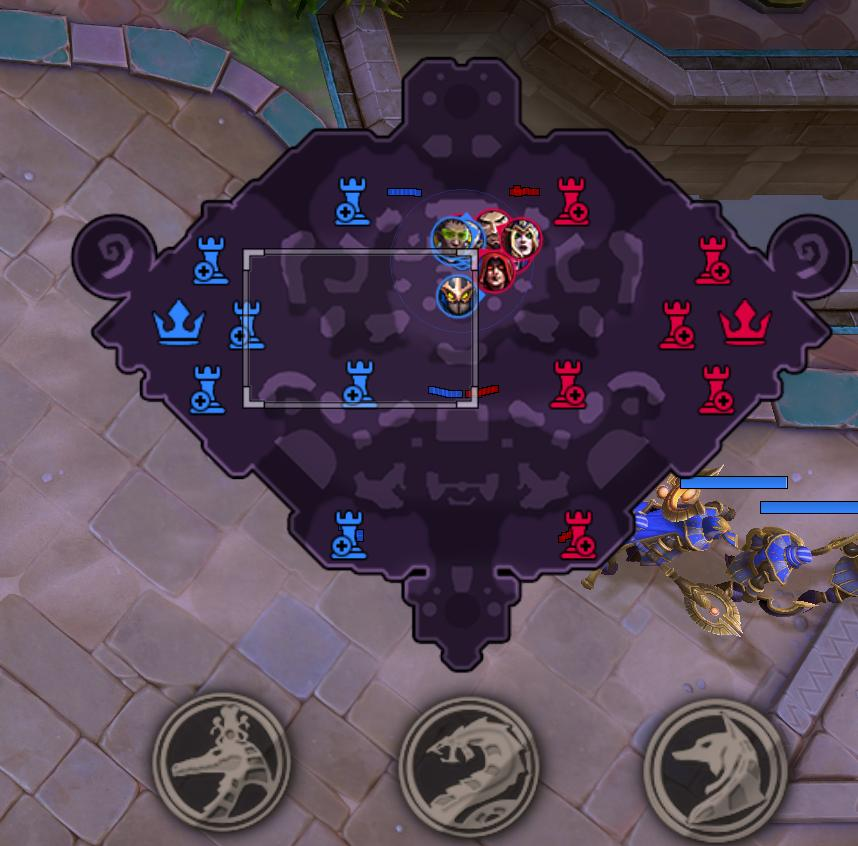blue nexus: (151, 297, 207, 345)
blue player: (430, 216, 480, 265), (436, 273, 476, 318)
blue tower: (227, 297, 265, 350), (192, 233, 230, 285), (330, 507, 368, 559), (333, 175, 371, 226), (188, 363, 226, 414), (340, 356, 377, 408)
red nexus: (717, 299, 772, 345)
red player: (502, 217, 542, 261), (476, 251, 515, 295), (472, 207, 511, 249)
red tower: (693, 234, 732, 285), (696, 364, 735, 415), (552, 175, 590, 227), (657, 298, 695, 350), (549, 358, 587, 409), (558, 507, 596, 558)
